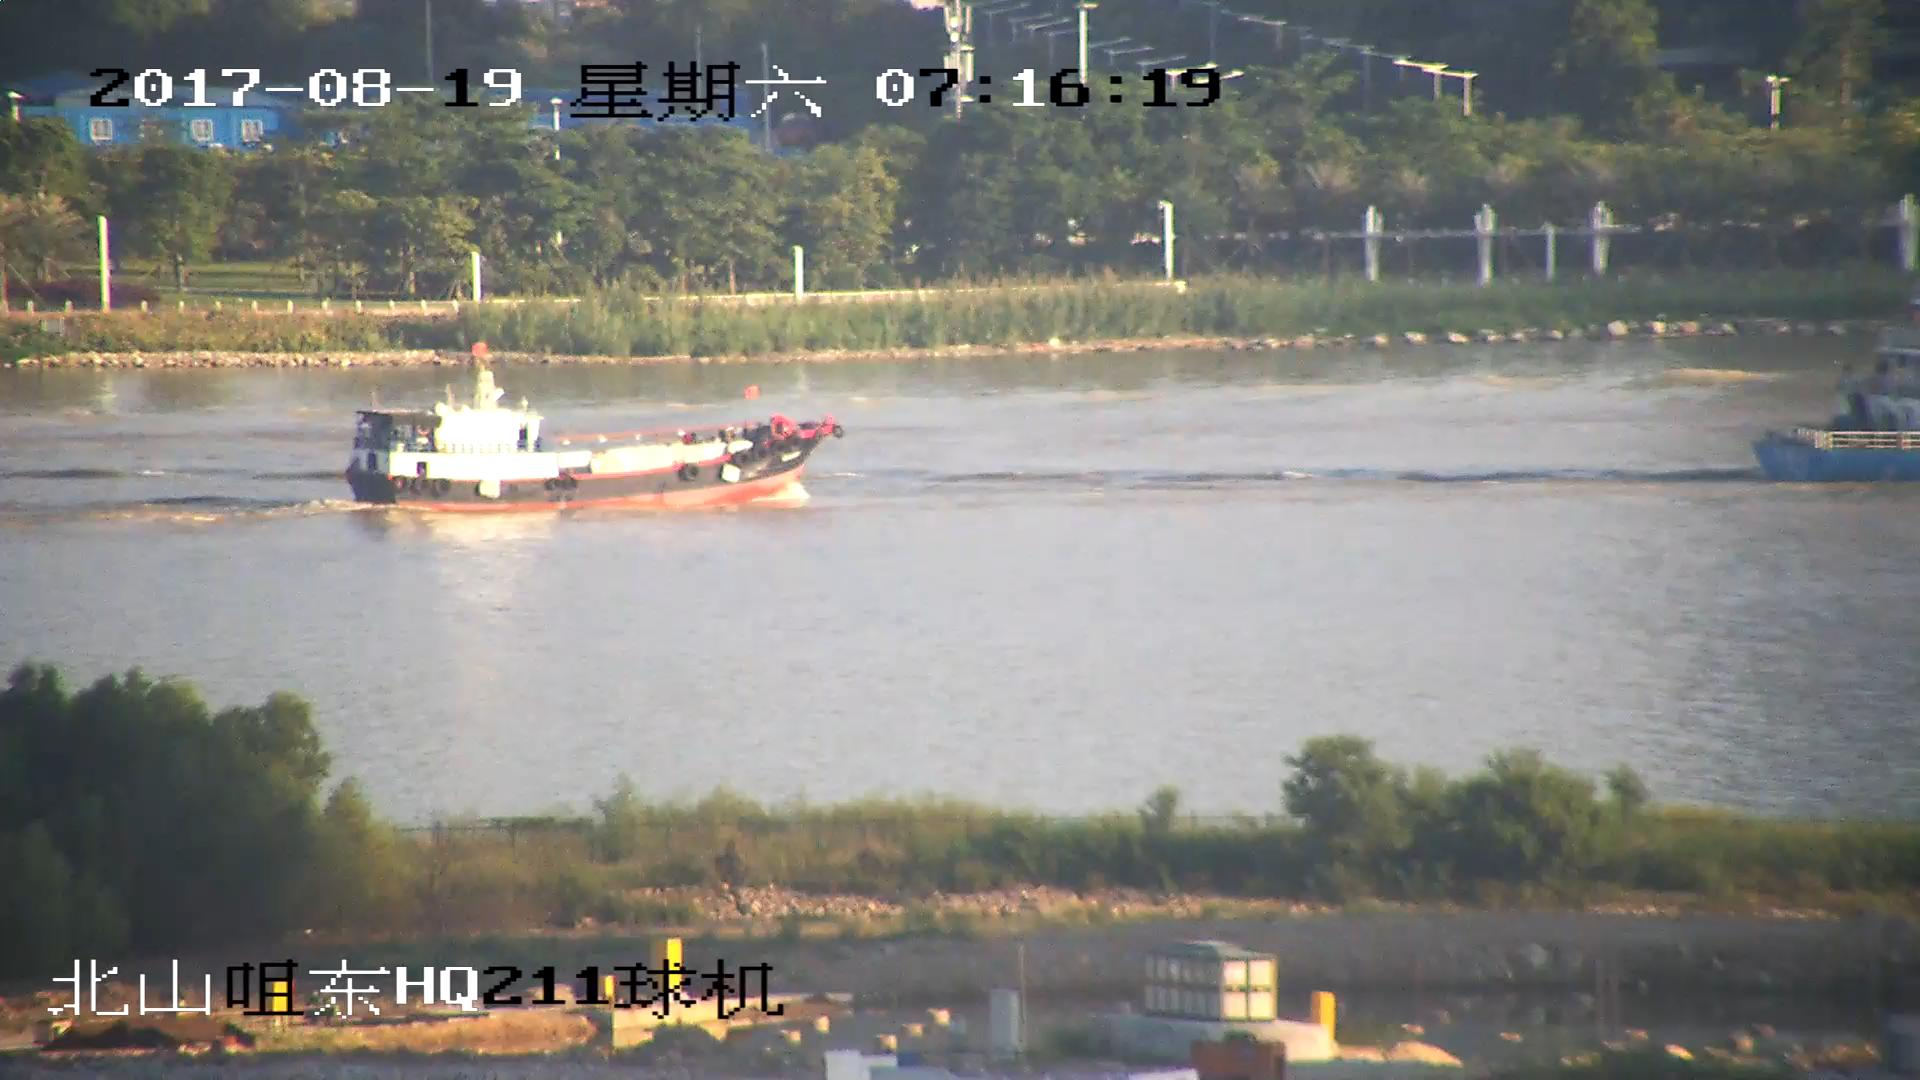fishing boat: (353, 371, 835, 521)
